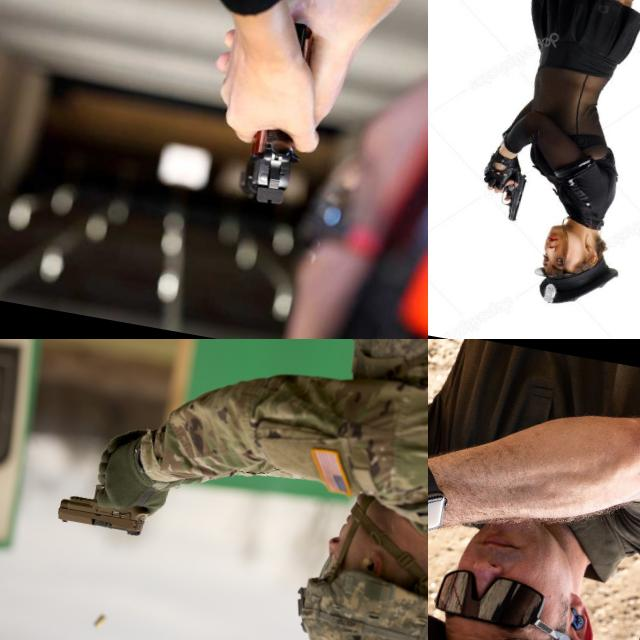handgun: (428, 405, 548, 640), (226, 8, 328, 214), (52, 468, 156, 540), (483, 156, 531, 224)
